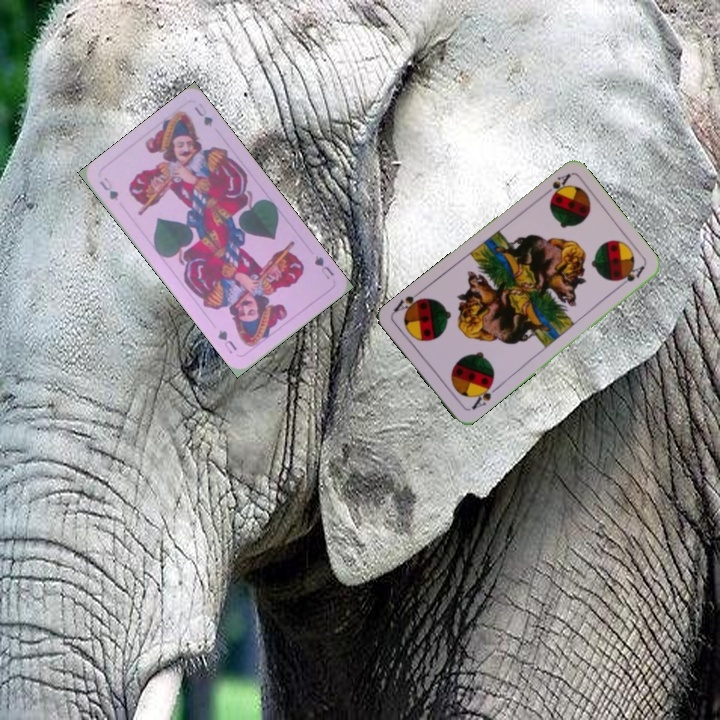GU: (310, 251, 337, 282), (95, 173, 121, 204)
SA: (468, 378, 501, 412), (538, 170, 573, 202)
